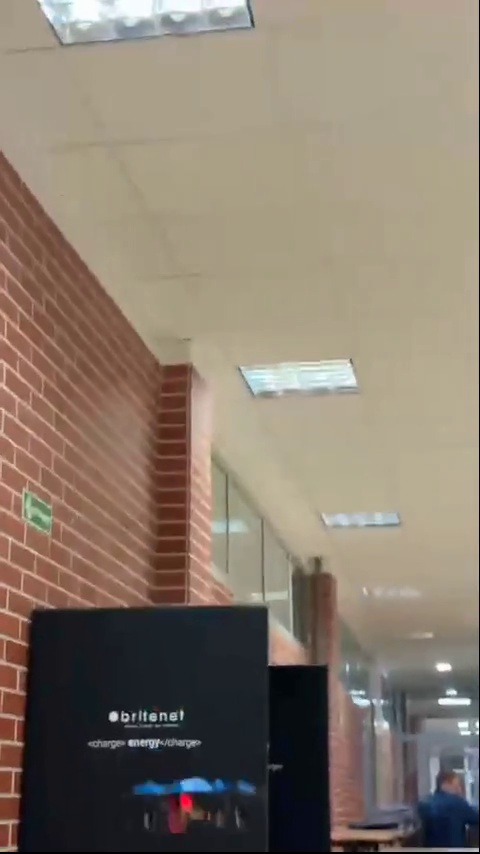drone: (119, 770, 269, 837)
no vest: (417, 766, 479, 846)
